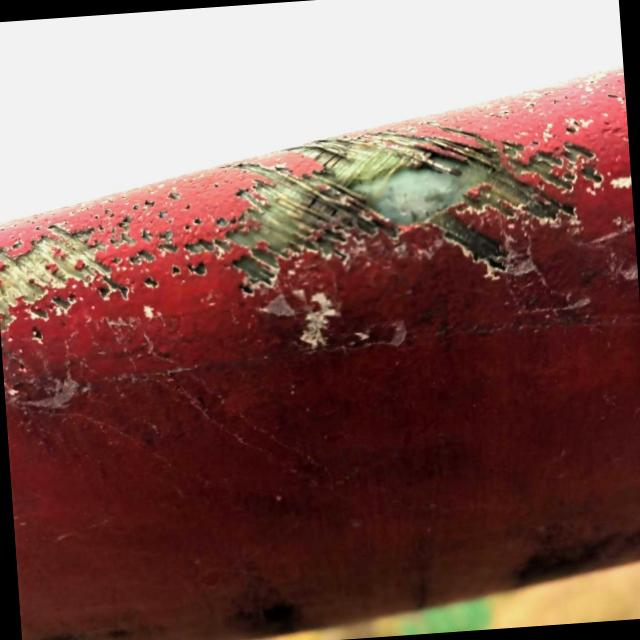corrosion: (0, 77, 639, 417)
